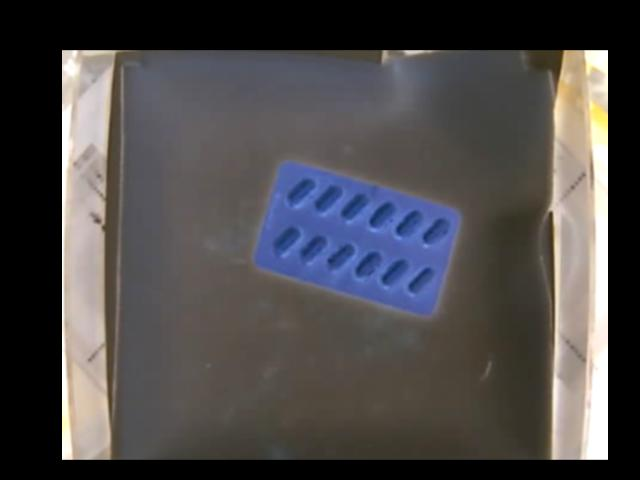Medicine: (256, 162, 461, 315)
